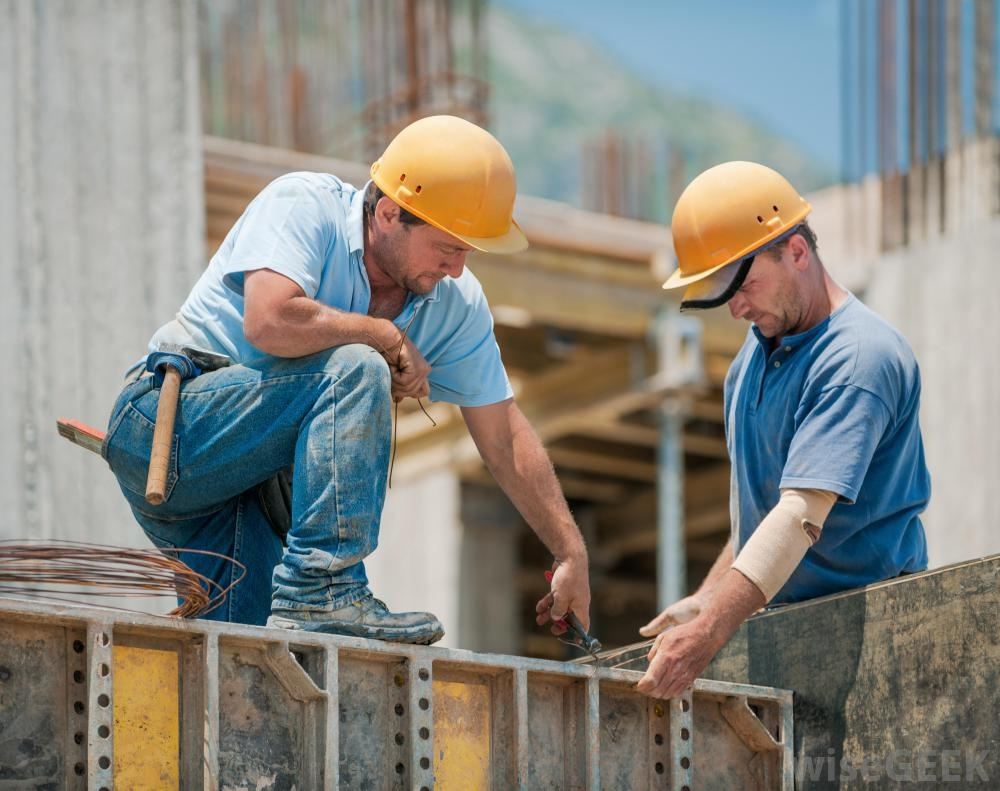yellow: (366, 107, 531, 300), (669, 162, 825, 332)
